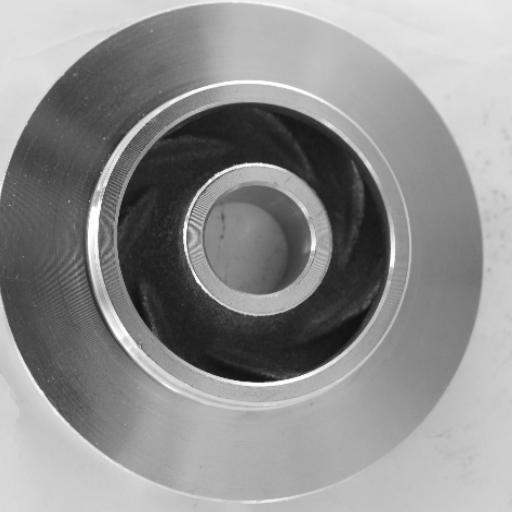polished_casting: (3, 0, 486, 506)
